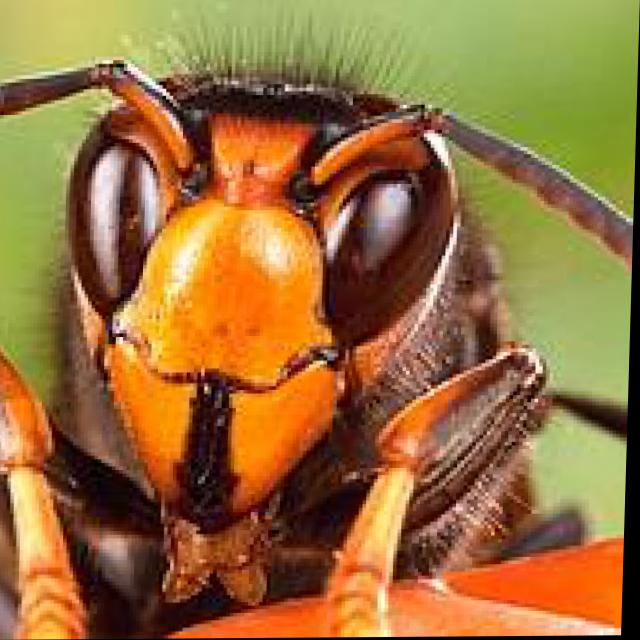Vespa Velutina: (0, 0, 637, 637)
